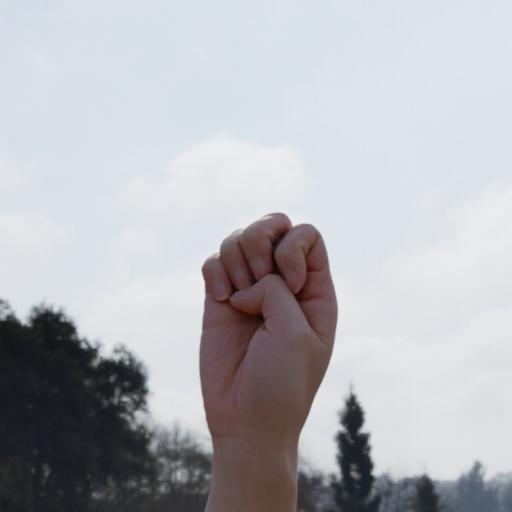E: (182, 194, 360, 454)
